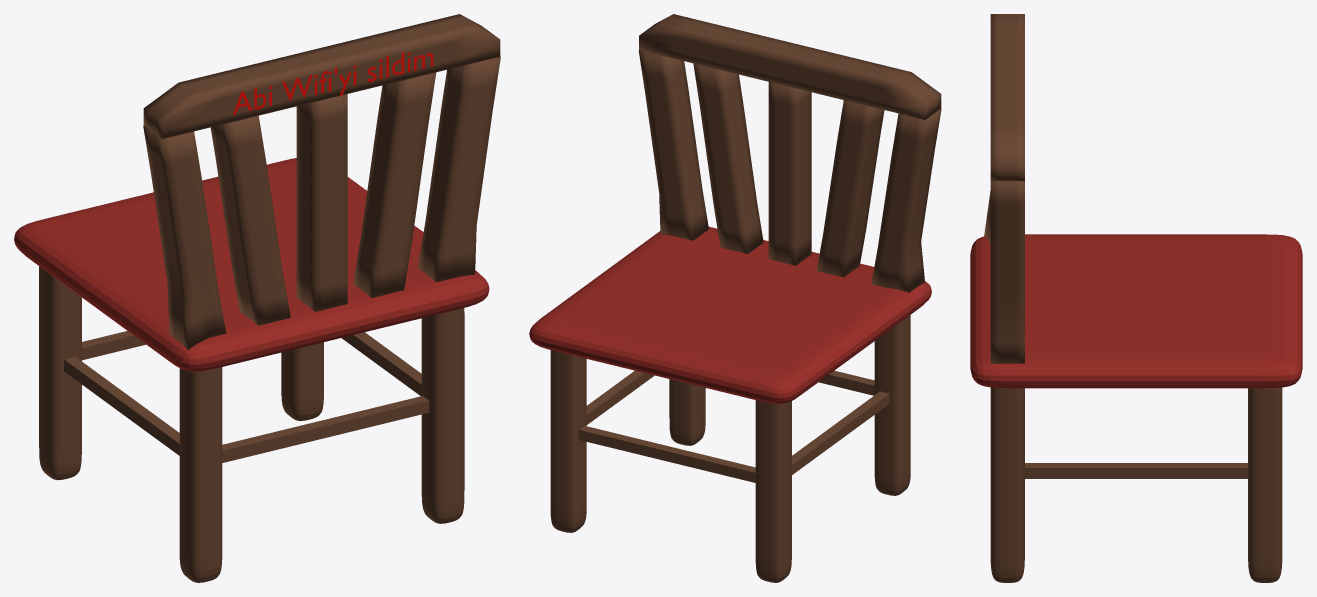
The model's file is sandalye.fbx.
The picture shows the model from 3 angles, left to right: view 1: azimuth 30°, elevation 25°; view 2: azimuth 150°, elevation 25°; view 3: azimuth 270°, elevation 25°; orthographic projection. The views are drawn at different scales.
Visible parts, largest first — view 1: Abi wifiyi sildim; view 2: Abi wifiyi sildim; view 3: Abi wifiyi sildim.
Boxes of the visible parts, x1,y1,x2,y2 form: Abi wifiyi sildim: (14, 14, 500, 582); Abi wifiyi sildim: (529, 14, 941, 582); Abi wifiyi sildim: (970, 14, 1302, 582).
Bounding box in the file's own units: 108 × 150 × 100.
